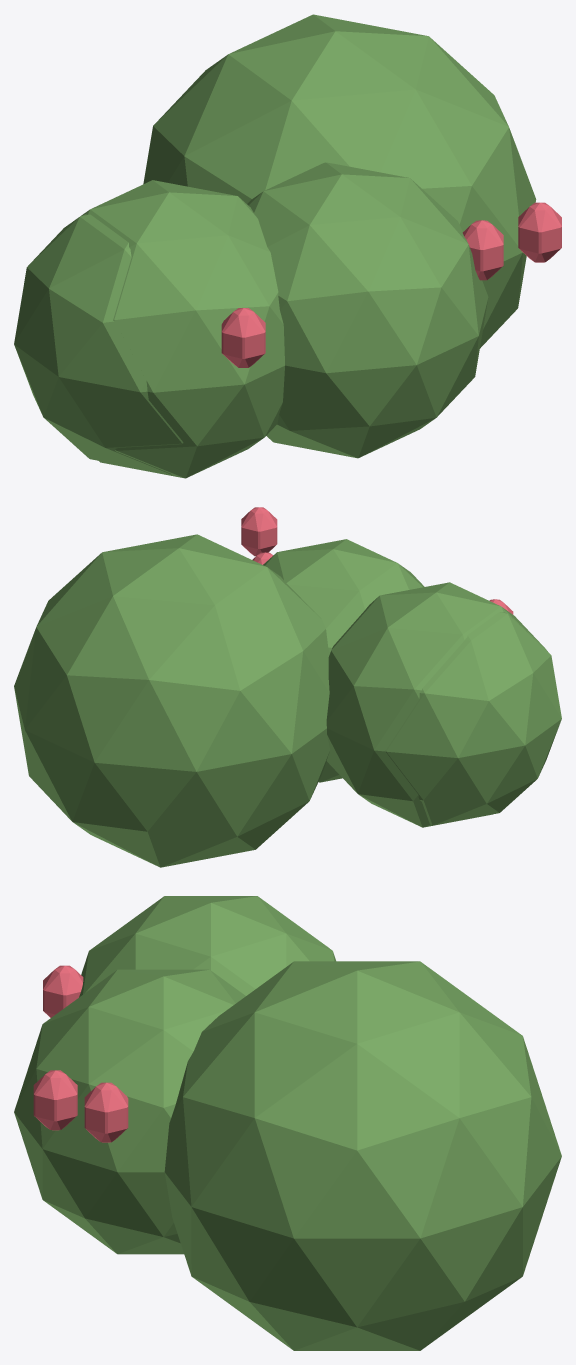
File: bush.glb
The picture shows the model from 3 angles, top to bottom: view 1: azimuth 30°, elevation 25°; view 2: azimuth 150°, elevation 25°; view 3: azimuth 270°, elevation 25°; orthographic projection. The views are drawn at different scales.
Parts seen in each view (by area): view 1: bush; view 2: bush; view 3: bush.
Boxes of the visible parts, x1,y1,x2,y2 form: bush: [14, 14, 561, 478]; bush: [14, 507, 561, 867]; bush: [14, 896, 561, 1350].
Bounding box in the file's own units: 0.4716 × 0.3102 × 0.4149.
